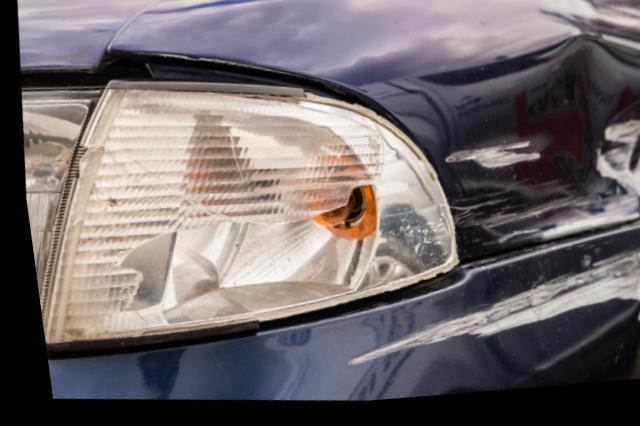dent: (444, 55, 640, 255)
dislocated part: (88, 45, 368, 117)
lamp broken: (34, 86, 452, 345)
scratch: (333, 234, 640, 373)
